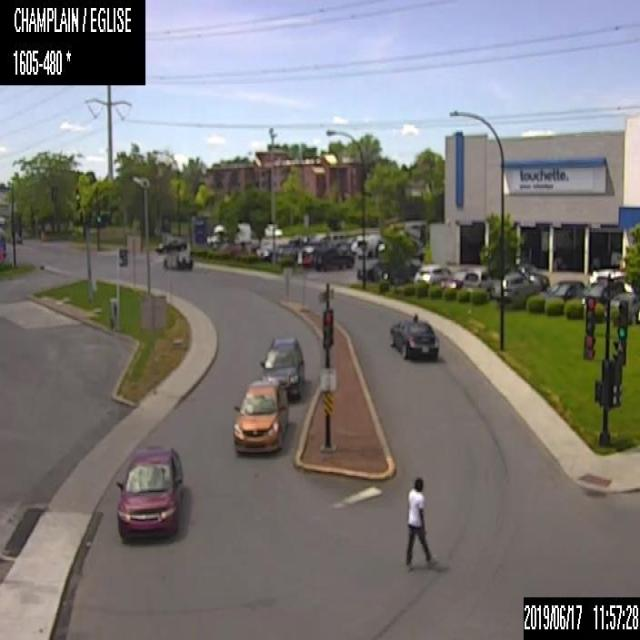pedestrian: (404, 476, 436, 567)
vehicle: (114, 444, 182, 540), (234, 378, 289, 454), (259, 335, 304, 403), (388, 313, 439, 360), (493, 271, 549, 300), (356, 258, 418, 284), (581, 278, 625, 308), (313, 240, 353, 268), (209, 221, 252, 246), (588, 268, 632, 292), (463, 265, 493, 298), (545, 278, 584, 302), (511, 261, 548, 285), (611, 290, 639, 320), (413, 263, 451, 284), (351, 233, 384, 256), (163, 250, 193, 270), (154, 236, 186, 252), (276, 239, 298, 262), (440, 268, 464, 288), (256, 242, 279, 260), (297, 242, 314, 266), (408, 235, 423, 260), (219, 241, 247, 254), (320, 230, 345, 244), (337, 234, 355, 248), (265, 222, 279, 236), (374, 238, 385, 255)
